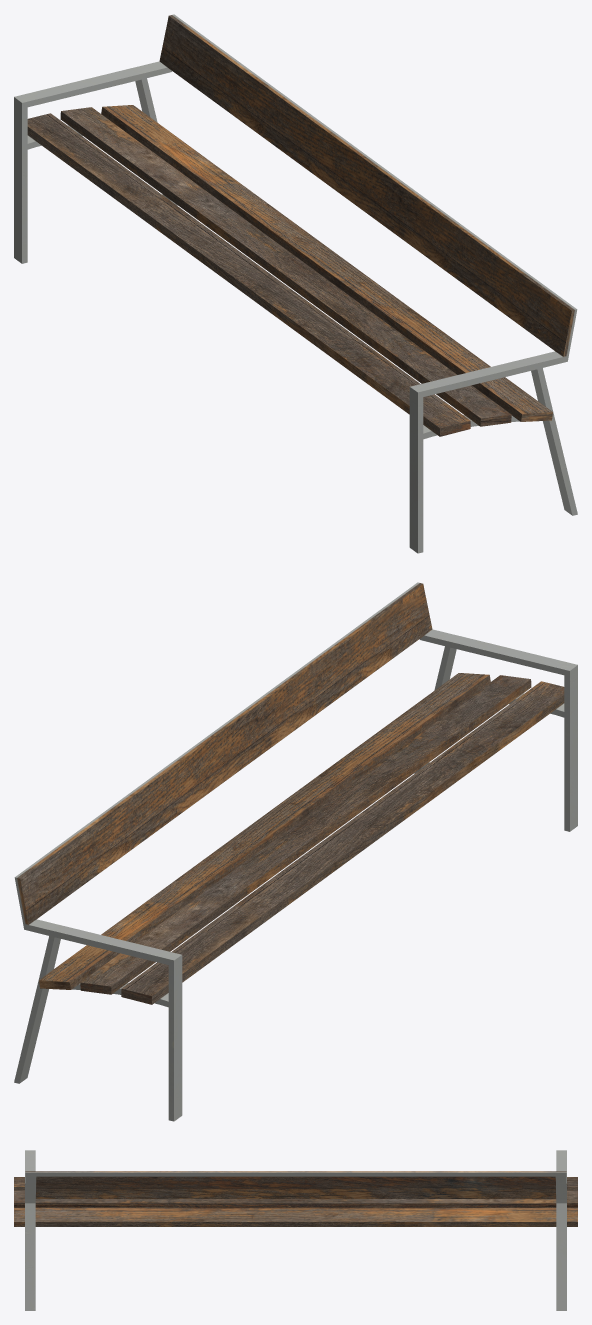
The model's file is Lavicka_Kov.fbx.
3 views of the same model, one above another, from view 1: azimuth 30°, elevation 25°; view 2: azimuth 150°, elevation 25°; view 3: azimuth 270°, elevation 25° (orthographic). The views are drawn at different scales.
Parts seen in each view (by area): view 1: Lavicka_Kov; view 2: Lavicka_Kov; view 3: Lavicka_Kov.
Part boxes in pixels (box(x1,y1,x2,y2)): Lavicka_Kov: box(14, 14, 577, 553); Lavicka_Kov: box(14, 582, 577, 1121); Lavicka_Kov: box(14, 1150, 577, 1310).
Bounding box in the file's own units: 57.24 × 70 × 260.
